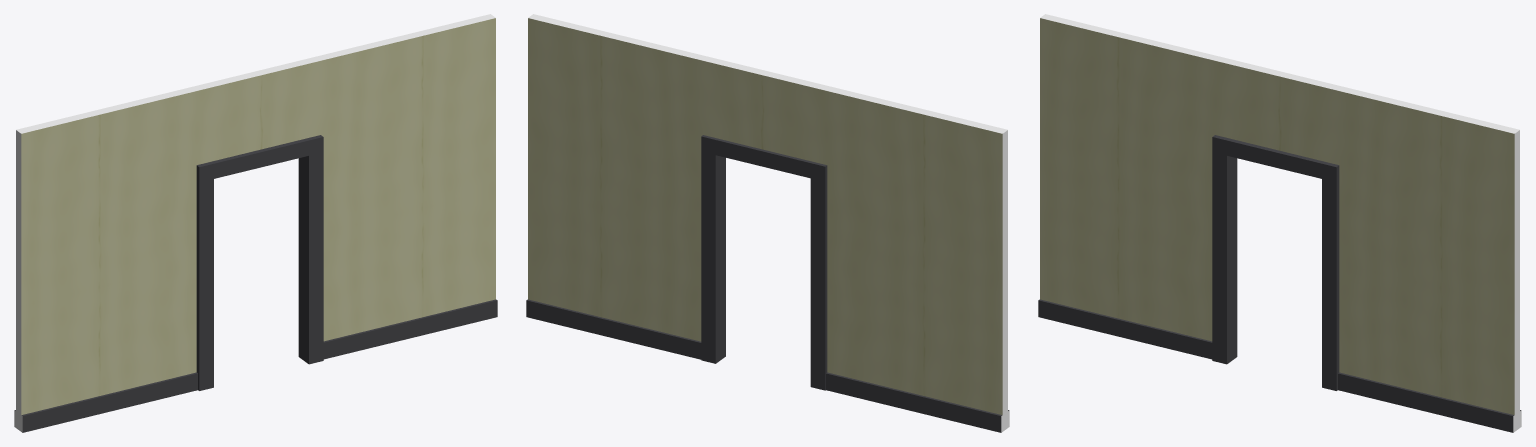
Rendered from SM_Buildings_WallDoor_5x3_01_DoubleWallpaper.fbx.
3 views of the same model, side by side, from view 1: azimuth 30°, elevation 25°; view 2: azimuth 150°, elevation 25°; view 3: azimuth 330°, elevation 25° (orthographic).
Parts seen in each view (by area): view 1: SM_Buildings_WallDoor_5x3_01_DoubleWallpaper; view 2: SM_Buildings_WallDoor_5x3_01_DoubleWallpaper; view 3: SM_Buildings_WallDoor_5x3_01_DoubleWallpaper.
Boxes of the visible parts, box(x1,y1,x2,y2) form: SM_Buildings_WallDoor_5x3_01_DoubleWallpaper: box(14, 14, 497, 432); SM_Buildings_WallDoor_5x3_01_DoubleWallpaper: box(526, 14, 1009, 432); SM_Buildings_WallDoor_5x3_01_DoubleWallpaper: box(1038, 14, 1521, 432).
Bounding box in the file's own units: 500 × 300 × 18.64.
1 material, 1 textured.
